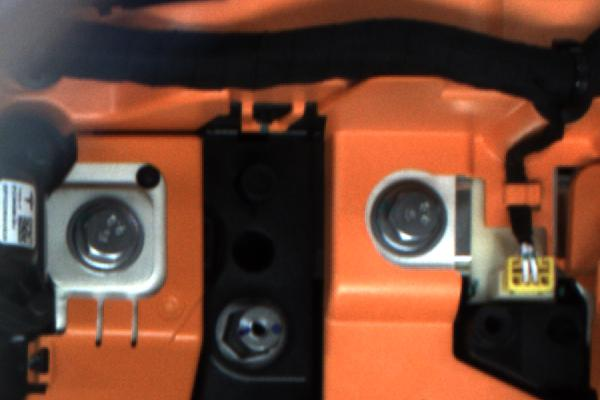nut_b: (364, 164, 458, 263), (58, 189, 158, 282)
